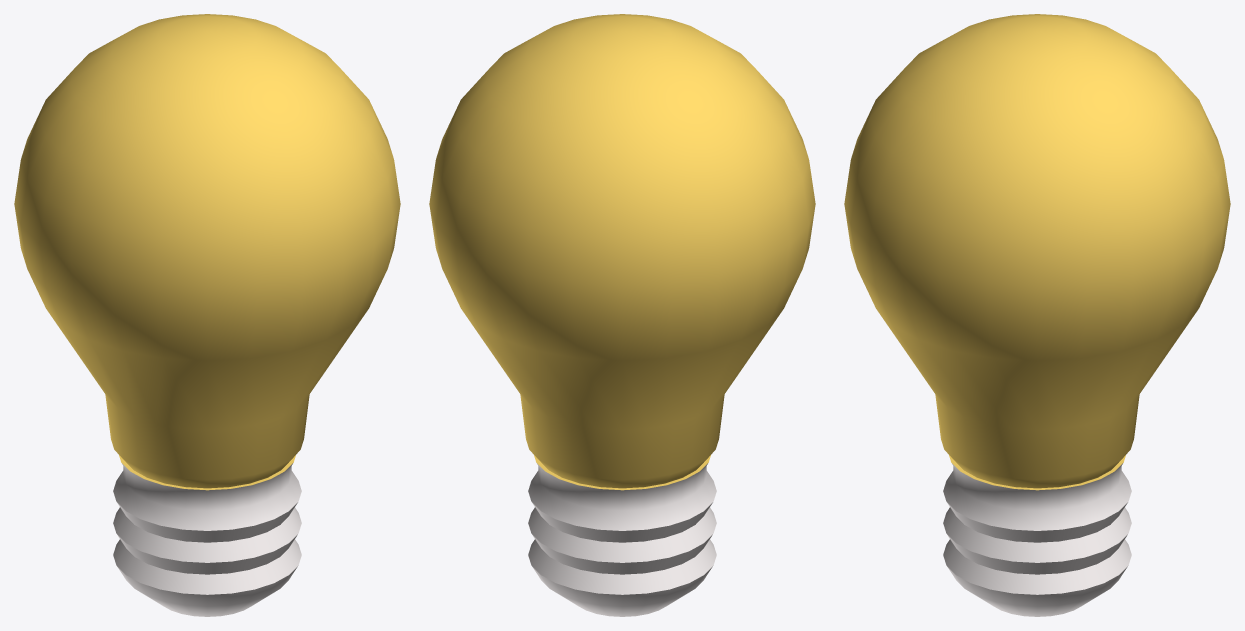
3 views of the same model, side by side, from view 1: azimuth 30°, elevation 25°; view 2: azimuth 150°, elevation 25°; view 3: azimuth 270°, elevation 25° (orthographic).
Parts seen in each view (by area): view 1: lightbulb; view 2: lightbulb; view 3: lightbulb.
Part boxes in pixels (x1,y1,x2,y2): lightbulb: (14, 14, 400, 616); lightbulb: (429, 14, 815, 616); lightbulb: (844, 14, 1230, 616).
Bounding box in the file's own units: 180 × 291 × 180.
